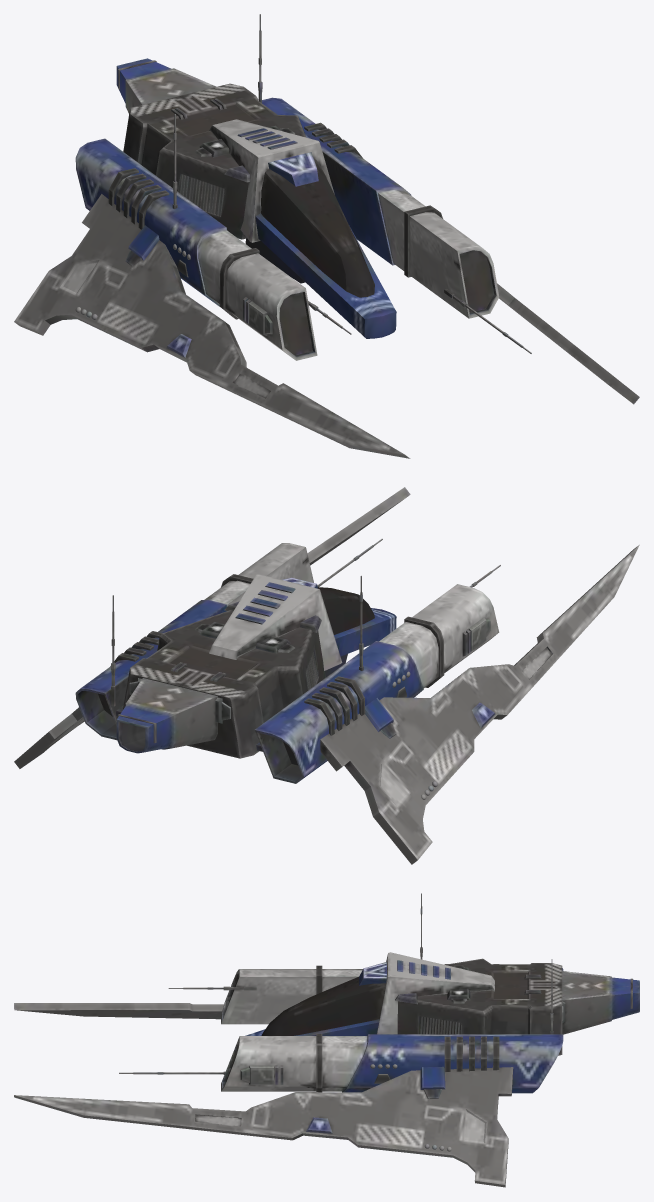
The model's file is ship_striker.glb.
The picture shows the model from 3 angles, top to bottom: view 1: azimuth 30°, elevation 25°; view 2: azimuth 150°, elevation 25°; view 3: azimuth 270°, elevation 25°; orthographic projection. The views are drawn at different scales.
Parts seen in each view (by area): view 1: Striker; view 2: Striker; view 3: Striker.
Boxes of the visible parts, x1,y1,x2,y2 form: Striker: (14, 14, 639, 458); Striker: (14, 487, 639, 864); Striker: (14, 893, 639, 1187).
Bounding box in the file's own units: 5.03 × 2.68 × 8.43.
Materials: 1 (1 with a texture image).
